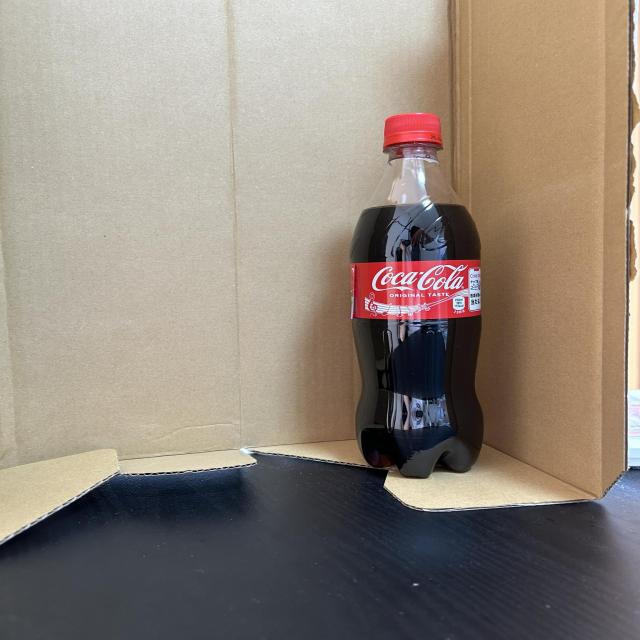high: (350, 113, 483, 478)
